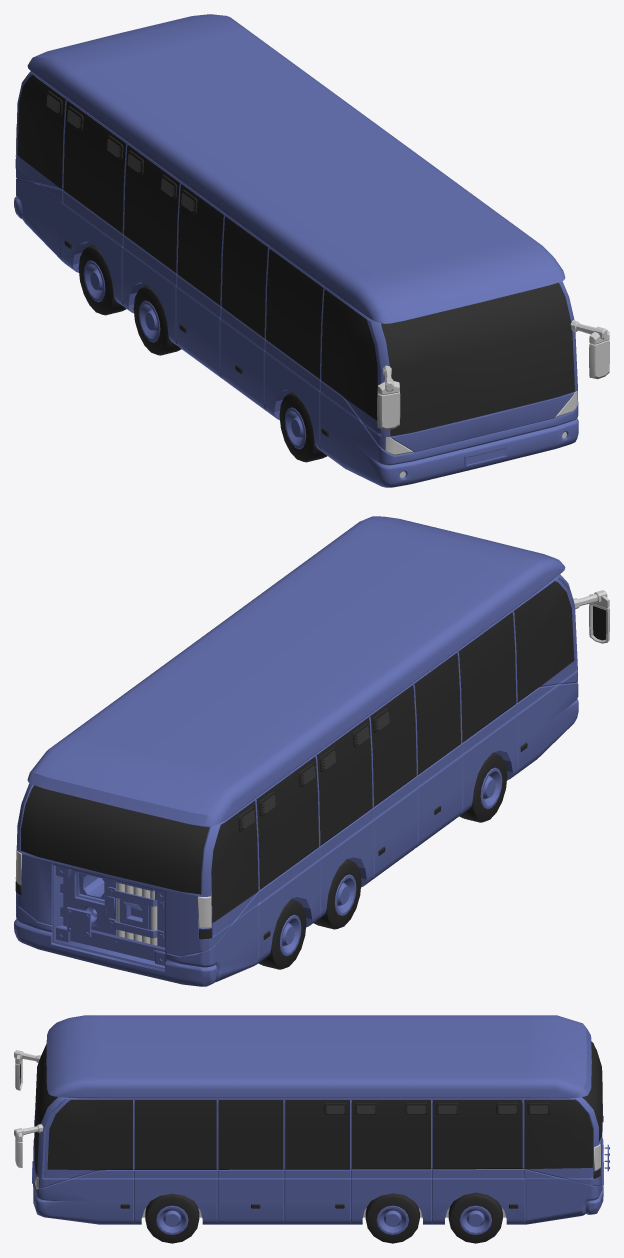
Rendered from Bus model.fbx.
3 renders of one model, top to bottom at view 1: azimuth 30°, elevation 25°; view 2: azimuth 150°, elevation 25°; view 3: azimuth 270°, elevation 25°, orthographic. The views are drawn at different scales.
Parts seen in each view (by area): view 1: Cube; view 2: Cube, Panel_Base_01; view 3: Cube.
Boxes of the visible parts, x1=… form: Cube: x1=14, y1=14, x2=609, y2=487; Cube: x1=14, y1=516, x2=609, y2=986; Panel_Base_01: x1=52, y1=864, x2=166, y2=970; Cube: x1=14, y1=1015, x2=603, y2=1243.
Size of the model in its own units: 312 by 276 by 922.
